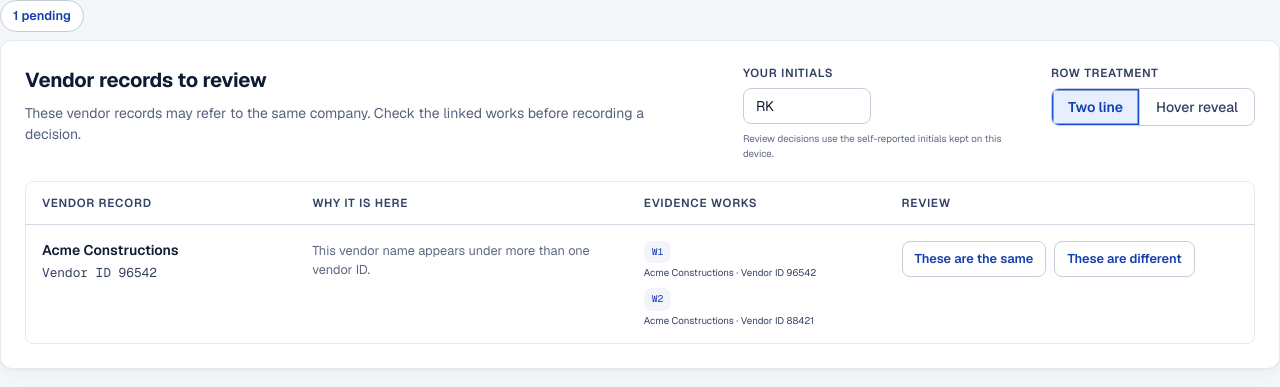
Test: AliasReviewQueue › the distinct action posts rejected_distinct
The image size is (1280, 387).
Click the button "These are different". click: (1124, 259)
box: [1054, 241, 1195, 277]
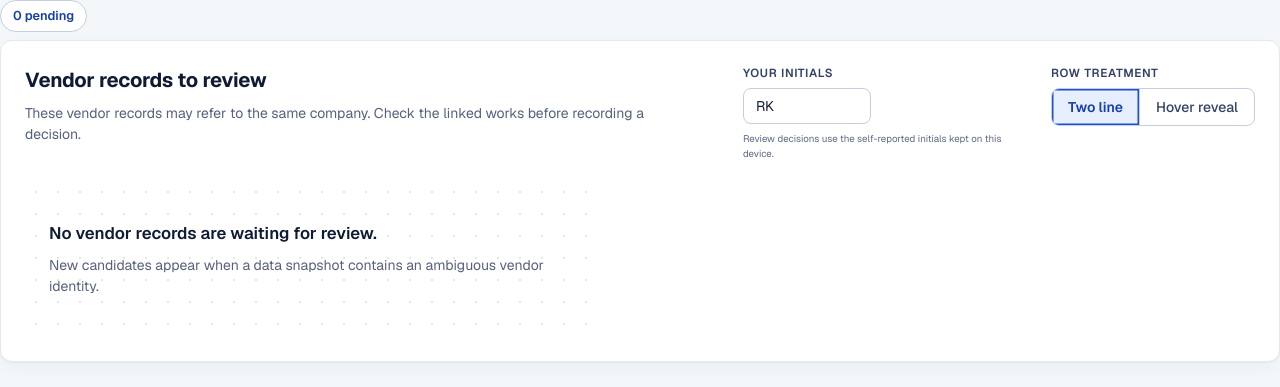
Expected: the text "No vendor records are waiting for review." is shown, [49, 222, 377, 244]
